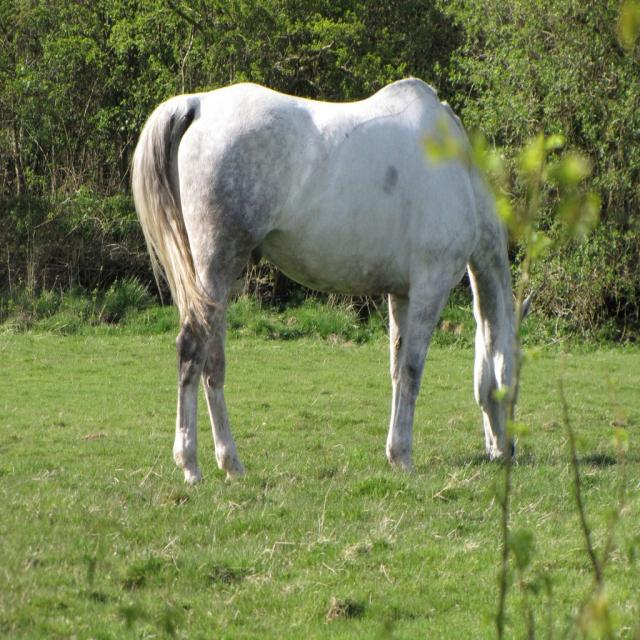Horse: (131, 76, 534, 483)
